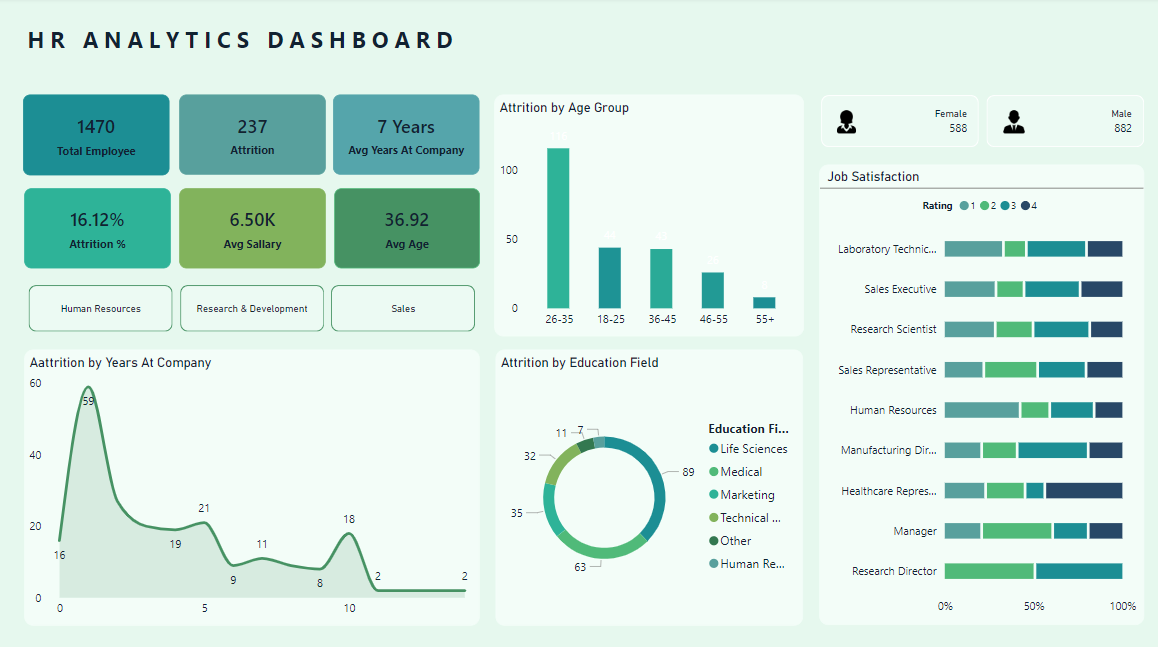

The dashboard page shown, as its layout file describes it:
{"tool":"powerbi","page":{"name":"Light","canvas":[1280,720],"ordinal":1},"visuals":[{"type":"card","fields":{"Values":["Measure.Employee_count"]},"box":[27.8,106.7,161.1,88.9],"z":0},{"type":"card","fields":{"Values":["Measure.employee_attrition"]},"box":[199.4,107,161,88],"z":1000},{"type":"card","fields":{"Values":["Measure.Years_with_text"]},"box":[367.7,107,161,88],"z":2000},{"type":"card","fields":{"Values":["Measure.attrition%"]},"box":[28.9,210,161.1,87.8],"z":3000},{"type":"card","fields":{"Values":["Measure.avg_salary"]},"box":[198.9,210,161.1,87.8],"z":4000},{"type":"card","fields":{"Values":["Measure.Avg_Age"]},"box":[368.9,210,160,87.8],"z":5000},{"type":"areaChart","title":"Aattrition by Years At Company","fields":{"Y":["Measure.employee_attrition"],"Category":["HR_Analytics.YearsAtCompany"]},"box":[28.9,386.7,500,303.3],"z":6000},{"type":"donutChart","title":"Attrition by Education Field","fields":{"Y":["Measure.employee_attrition"],"Category":["HR_Analytics.EducationField"]},"box":[545.6,386.7,337.8,303.3],"z":7000},{"type":"columnChart","title":"Attrition by Age Group","fields":{"Category":["HR_Analytics.AgeGroup"],"Y":["Measure.employee_attrition"]},"box":[544.4,106.7,340,265.6],"z":8000},{"type":"hundredPercentStackedBarChart","title":"Job Satisfaction","fields":{"Y":["Measure.employee_attrition"],"Category":["HR_Analytics.JobRole"],"Series":["HR_Analytics.JobSatisfaction"]},"box":[901.6,183.8,357,505.8],"z":9000},{"type":"advancedSlicerVisual","fields":{"Values":["HR_Analytics.Gender"]},"box":[898.6,102.9,365,67.1],"z":10000},{"type":"advancedSlicerVisual","fields":{"Values":["HR_Analytics.Department"]},"box":[28.9,311.1,500,61.1],"z":11000},{"type":"textbox","box":[27.8,26.7,555.6,51.1],"z":12000},{"type":"image","box":[1097.8,118.9,35.6,35.6],"z":13000},{"type":"image","box":[913.3,118.9,35.6,35.6],"z":14000}]}

Visuals, with their boxes in screenshot pixels (x1, y1, x2, y2), scaled from the page's 1280x720 canvas onto the 1158x647 screenshot:
card - Measure.Employee_count: [left=25, top=96, right=171, bottom=176]
card - Measure.employee_attrition: [left=180, top=96, right=326, bottom=175]
card - Measure.Years_with_text: [left=333, top=96, right=478, bottom=175]
card - Measure.attrition%: [left=26, top=189, right=172, bottom=268]
card - Measure.avg_salary: [left=180, top=189, right=326, bottom=268]
card - Measure.Avg_Age: [left=334, top=189, right=478, bottom=268]
"Aattrition by Years At Company" areaChart: [left=26, top=347, right=478, bottom=620]
"Attrition by Education Field" donutChart: [left=494, top=347, right=799, bottom=620]
"Attrition by Age Group" columnChart: [left=493, top=96, right=800, bottom=335]
"Job Satisfaction" hundredPercentStackedBarChart: [left=816, top=165, right=1139, bottom=620]
advancedSlicerVisual - HR_Analytics.Gender: [left=813, top=92, right=1143, bottom=153]
advancedSlicerVisual - HR_Analytics.Department: [left=26, top=280, right=478, bottom=334]
textbox: [left=25, top=24, right=528, bottom=70]
image: [left=993, top=107, right=1025, bottom=139]
image: [left=826, top=107, right=858, bottom=139]
